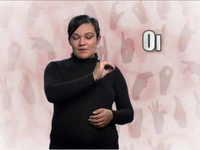oi: (95, 53, 117, 80)
